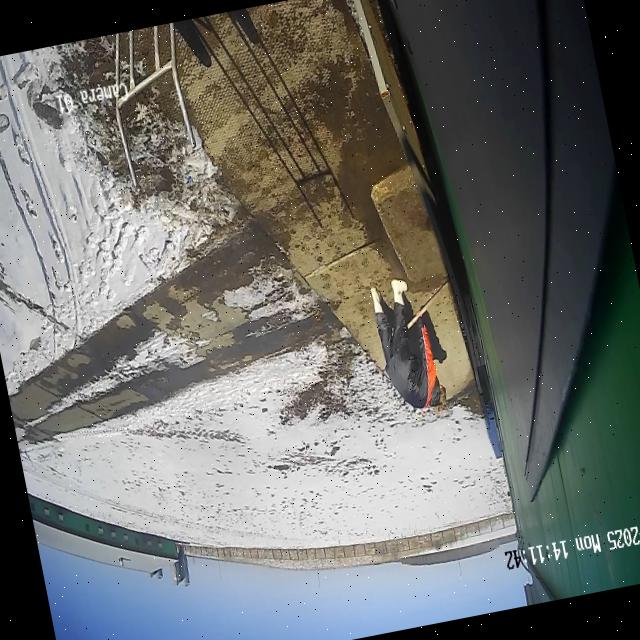Red uniform: (371, 280, 447, 409)
